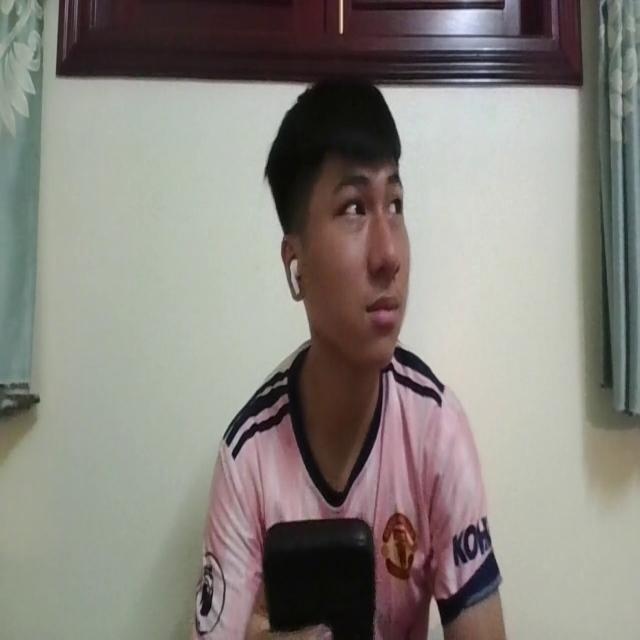phone: (261, 513, 373, 640)
student: (183, 68, 505, 640)
